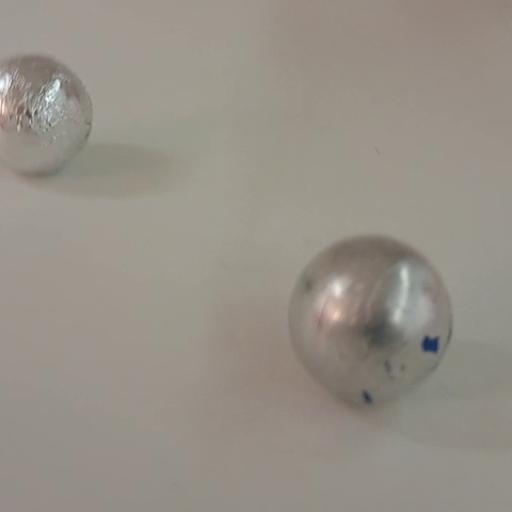alive: (284, 230, 456, 413), (0, 54, 93, 173)
